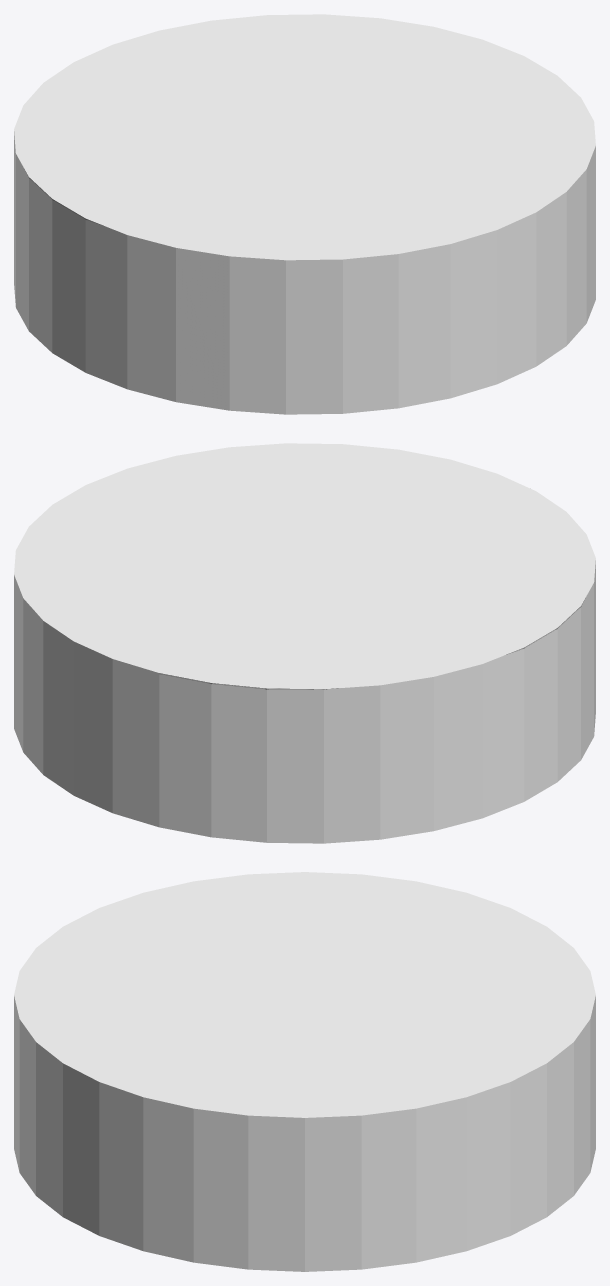
The model's file is sceneMove.obj.
3 renders of one model, top to bottom at view 1: azimuth 30°, elevation 25°; view 2: azimuth 150°, elevation 25°; view 3: azimuth 270°, elevation 25°, orthographic.
Parts seen in each view (by area): view 1: 円柱; view 2: 円柱; view 3: 円柱.
Boxes of the visible parts, x1,y1,x2,y2 form: 円柱: (14,14,595,414); 円柱: (14,443,595,843); 円柱: (14,872,595,1271).
Bounding box in the file's own units: 3.06 × 0.8943 × 3.06.
Materials: 1 (1 with a texture image).
